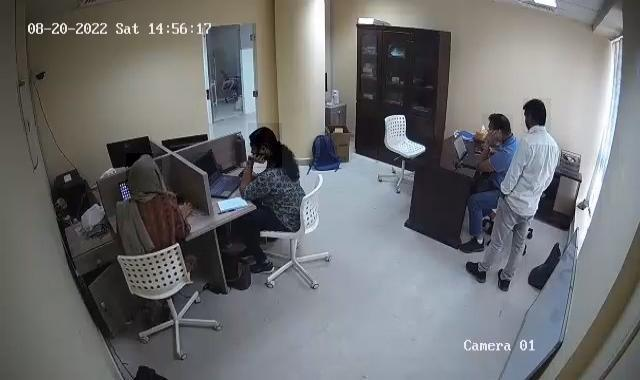no_apron: (178, 198, 199, 221), (482, 131, 503, 150), (247, 155, 270, 168)
no_gloves: (248, 123, 282, 168), (126, 153, 162, 195), (524, 98, 552, 133), (482, 114, 513, 144)
no_hairnet: (522, 111, 540, 132), (249, 144, 270, 161)
